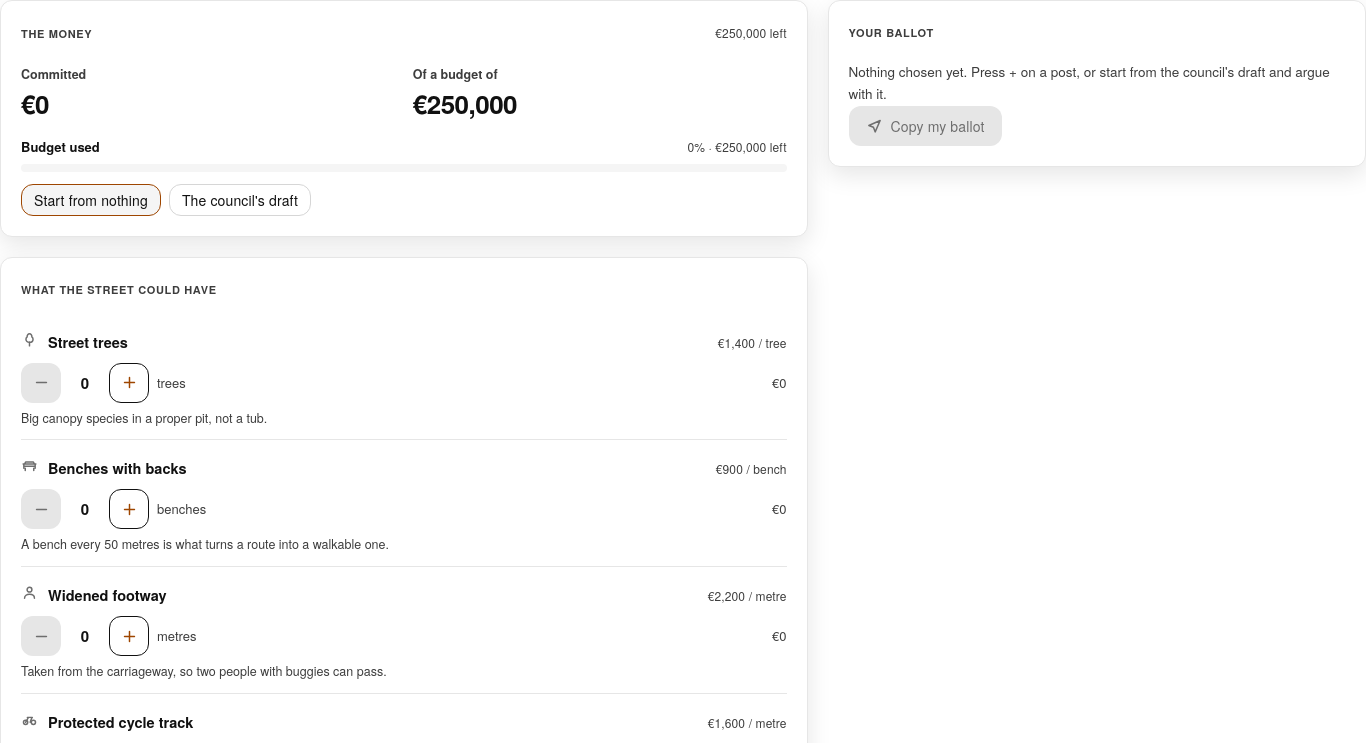
Co-Budget › loads the council draft, and scores it
The image size is (1366, 743).
Step 1. Click the button "The council's draft" → (240, 200), box x1=169 y1=184 x2=311 y2=216
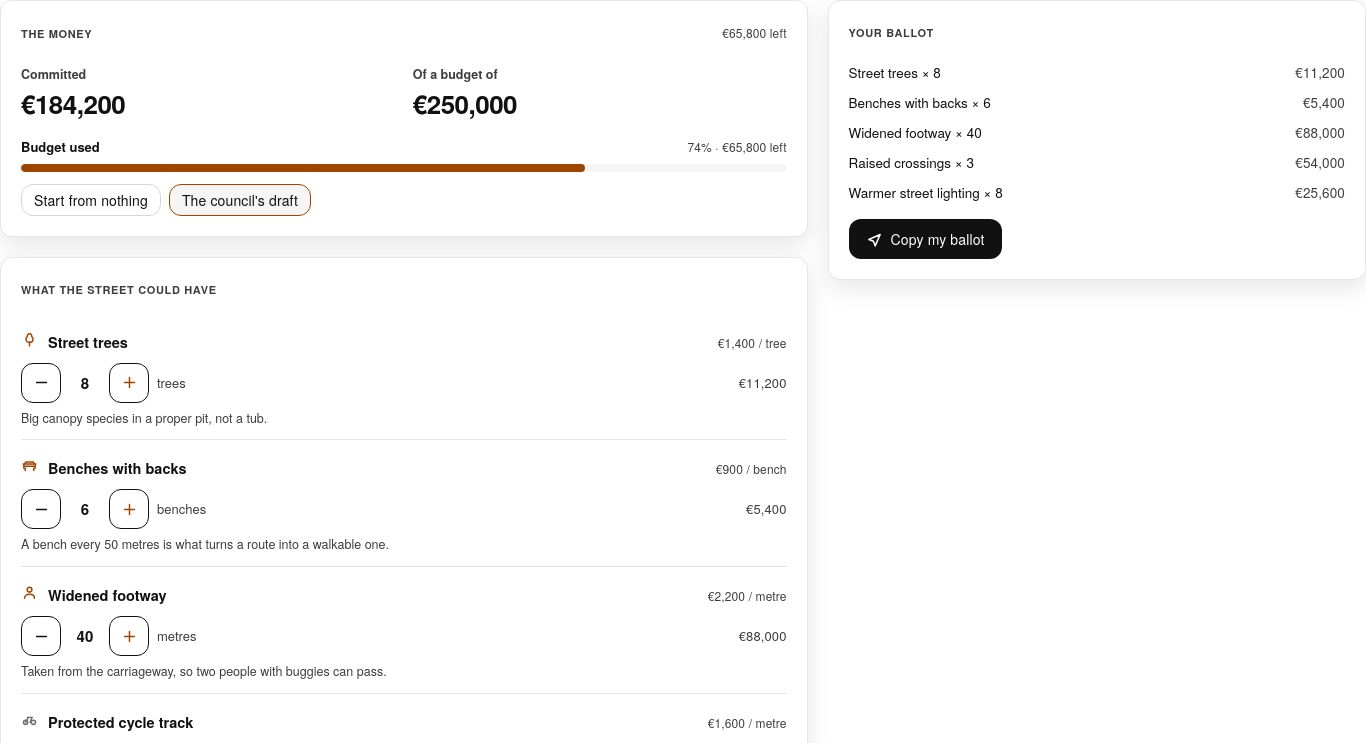
Result: the text "Widened footway × 40" is shown at x1=849 y1=123 x2=982 y2=142
Result: the text "€65,800 left" is shown at x1=722 y1=21 x2=787 y2=45
